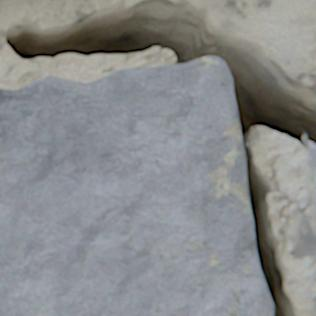brick: (0, 56, 271, 315)
broken_brick: (301, 135, 315, 218)
crack: (0, 0, 315, 315)
